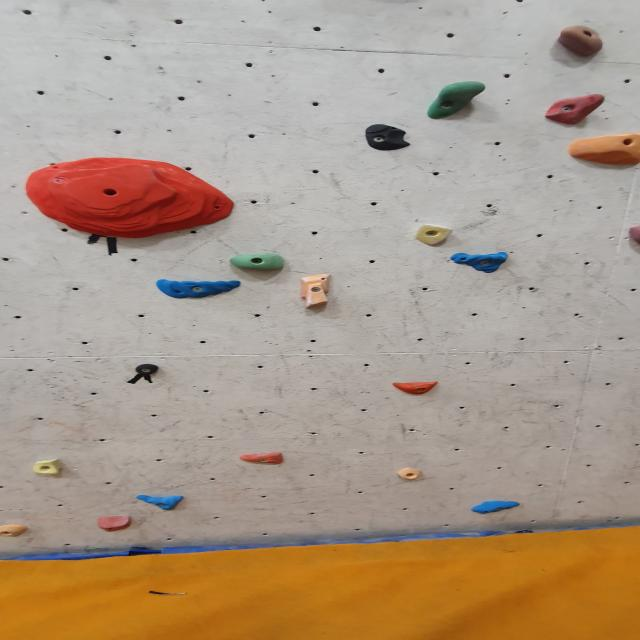Crimp: (25, 160, 246, 240), (151, 278, 244, 299), (406, 222, 459, 249), (449, 254, 512, 274), (136, 494, 187, 510), (470, 499, 524, 514), (390, 382, 445, 396), (236, 452, 288, 465), (32, 460, 68, 478), (396, 466, 426, 481), (0, 524, 31, 538)
Jug: (424, 82, 489, 122), (542, 94, 610, 127), (553, 25, 606, 58), (228, 252, 287, 272)
Pinch: (298, 272, 342, 312), (132, 362, 165, 379)
Sloper: (566, 132, 640, 168), (360, 125, 416, 154), (95, 516, 134, 532)
